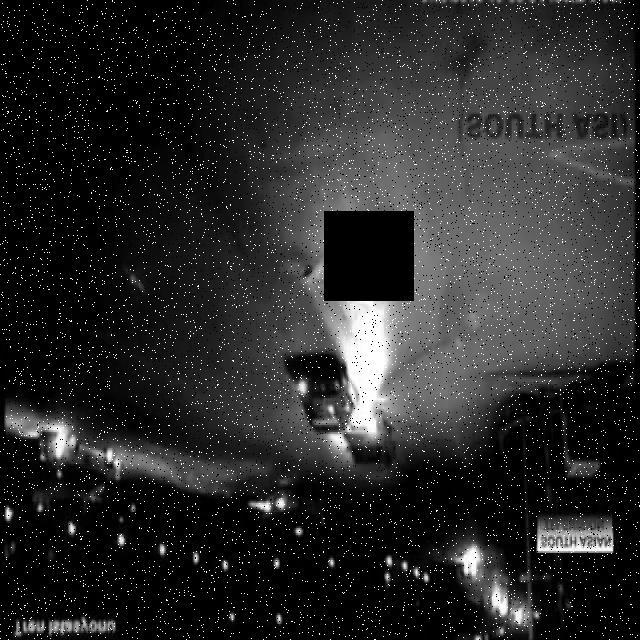moderate: (289, 356, 402, 478)
